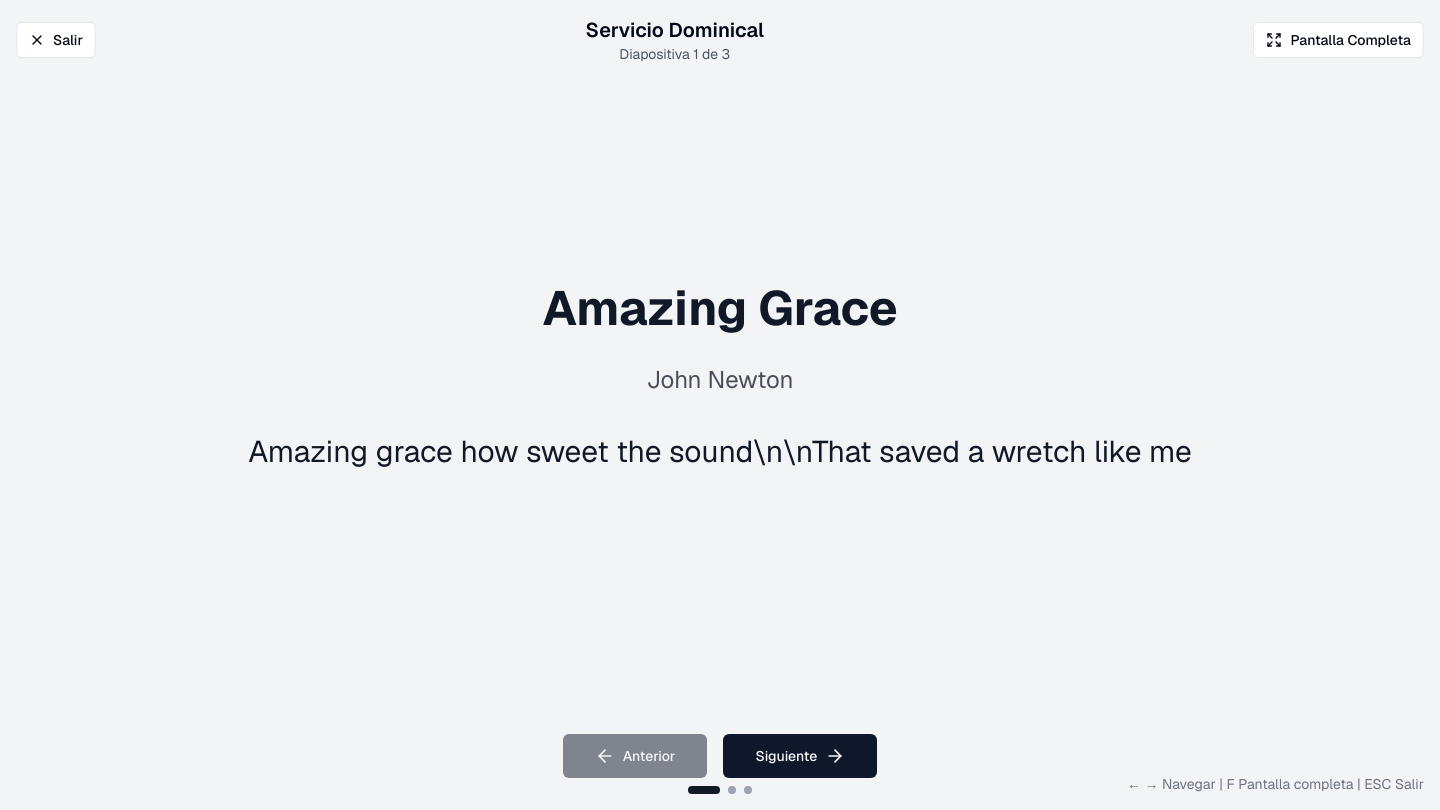
Test: PresentationPage › navigates to next slide
Expected: the heading "Amazing Grace" is shown, 542,277 -> 898,339
Click the button "Siguiente" at coordinates (800, 756), box 723,734 -> 877,778
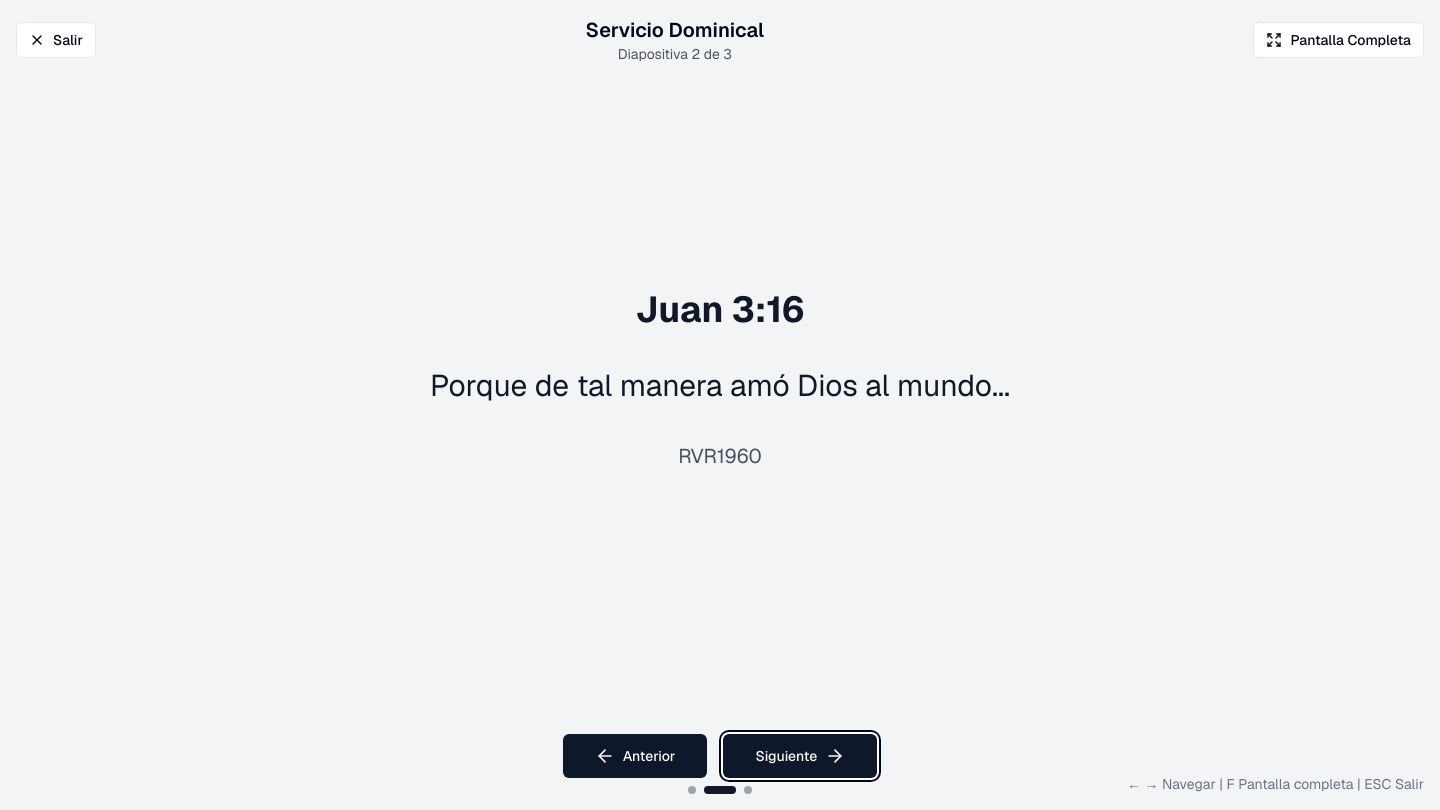
Now the heading "Juan 3:16" is shown, box 636,286 -> 804,333
Now the text "Porque de tal manera amó Dios al mundo..." is shown, box 430,362 -> 1010,410
Now the text "Diapositiva 2 de 3" is shown, box 618,45 -> 732,63
